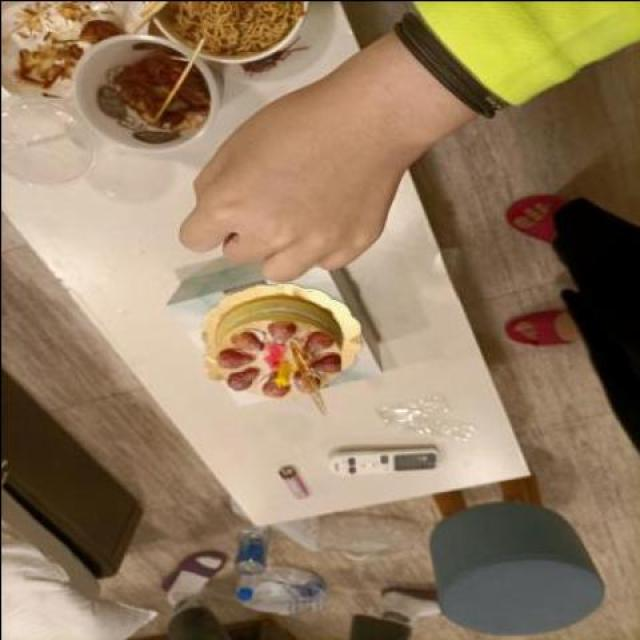fist: (175, 90, 385, 285)
